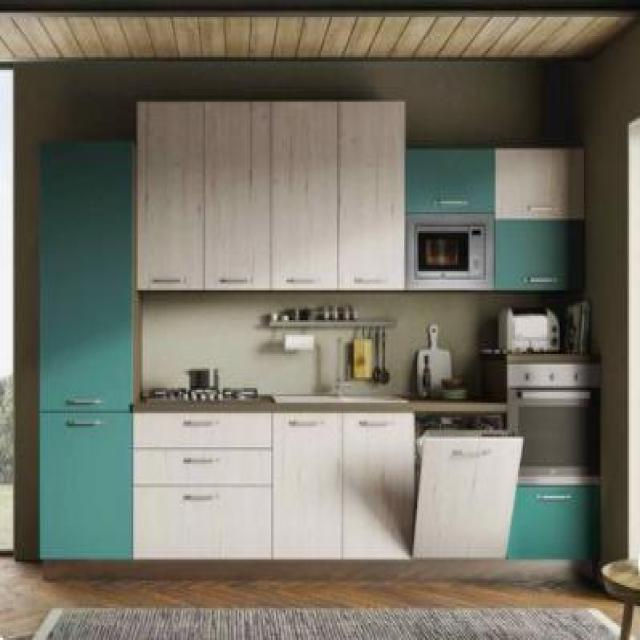dishwasher: (412, 405, 528, 566)
